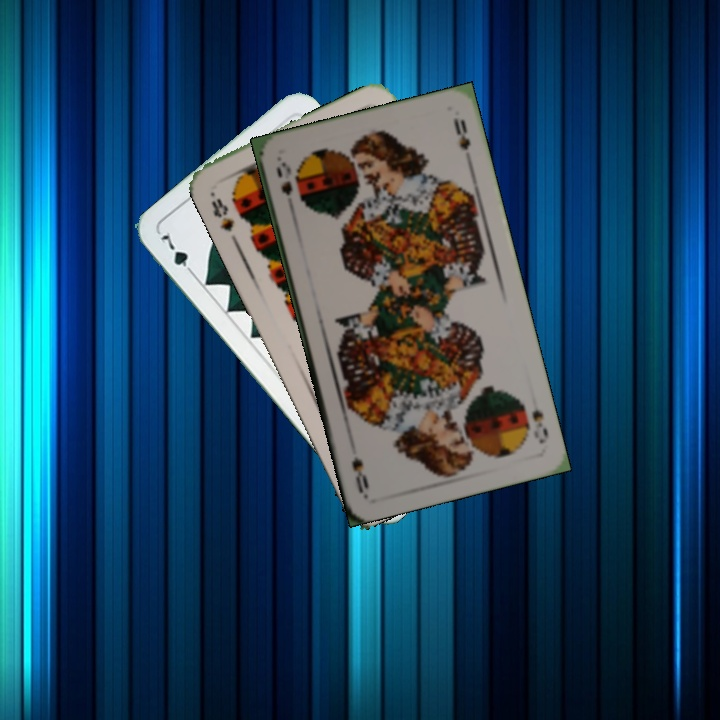G7: (156, 228, 198, 280)
S8: (207, 194, 237, 235)
SO: (272, 158, 296, 199), (528, 405, 551, 446)
